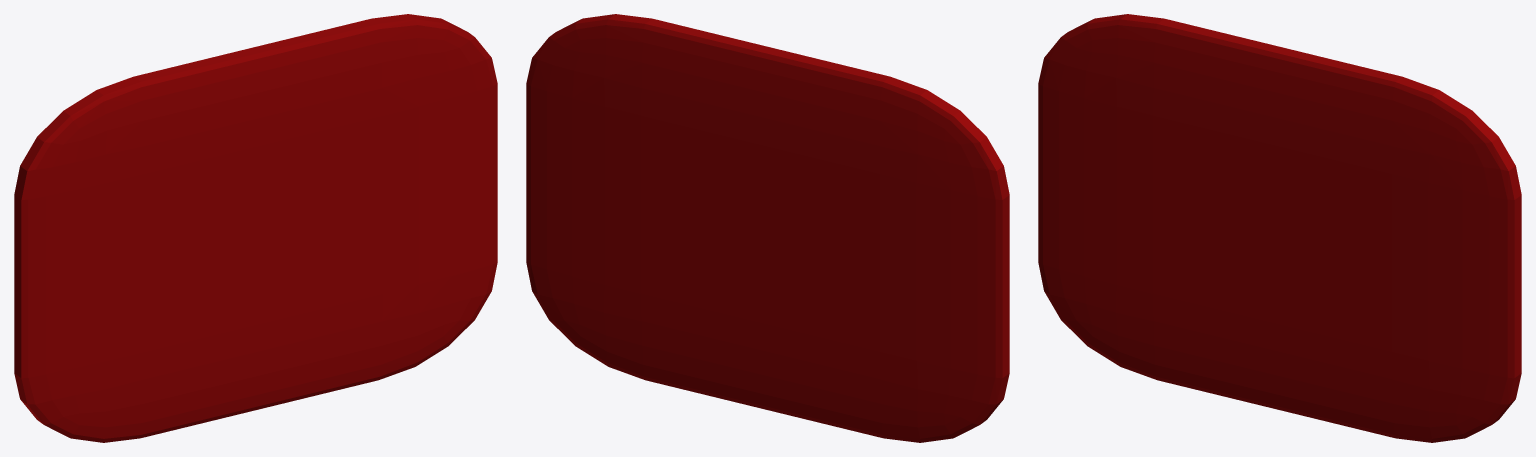
File: lift_up.dae
The picture shows the model from 3 angles, left to right: view 1: azimuth 30°, elevation 25°; view 2: azimuth 150°, elevation 25°; view 3: azimuth 330°, elevation 25°; orthographic projection.
Visible parts, largest first — view 1: Cube.004; view 2: Cube.004; view 3: Cube.004.
Boxes of the visible parts, left/top/right/bottom form: Cube.004: left=14, top=14, right=497, bottom=442; Cube.004: left=526, top=14, right=1009, bottom=442; Cube.004: left=1038, top=14, right=1521, bottom=442.
Bounding box in the file's own units: 1.14 × 0.06 × 0.815.
